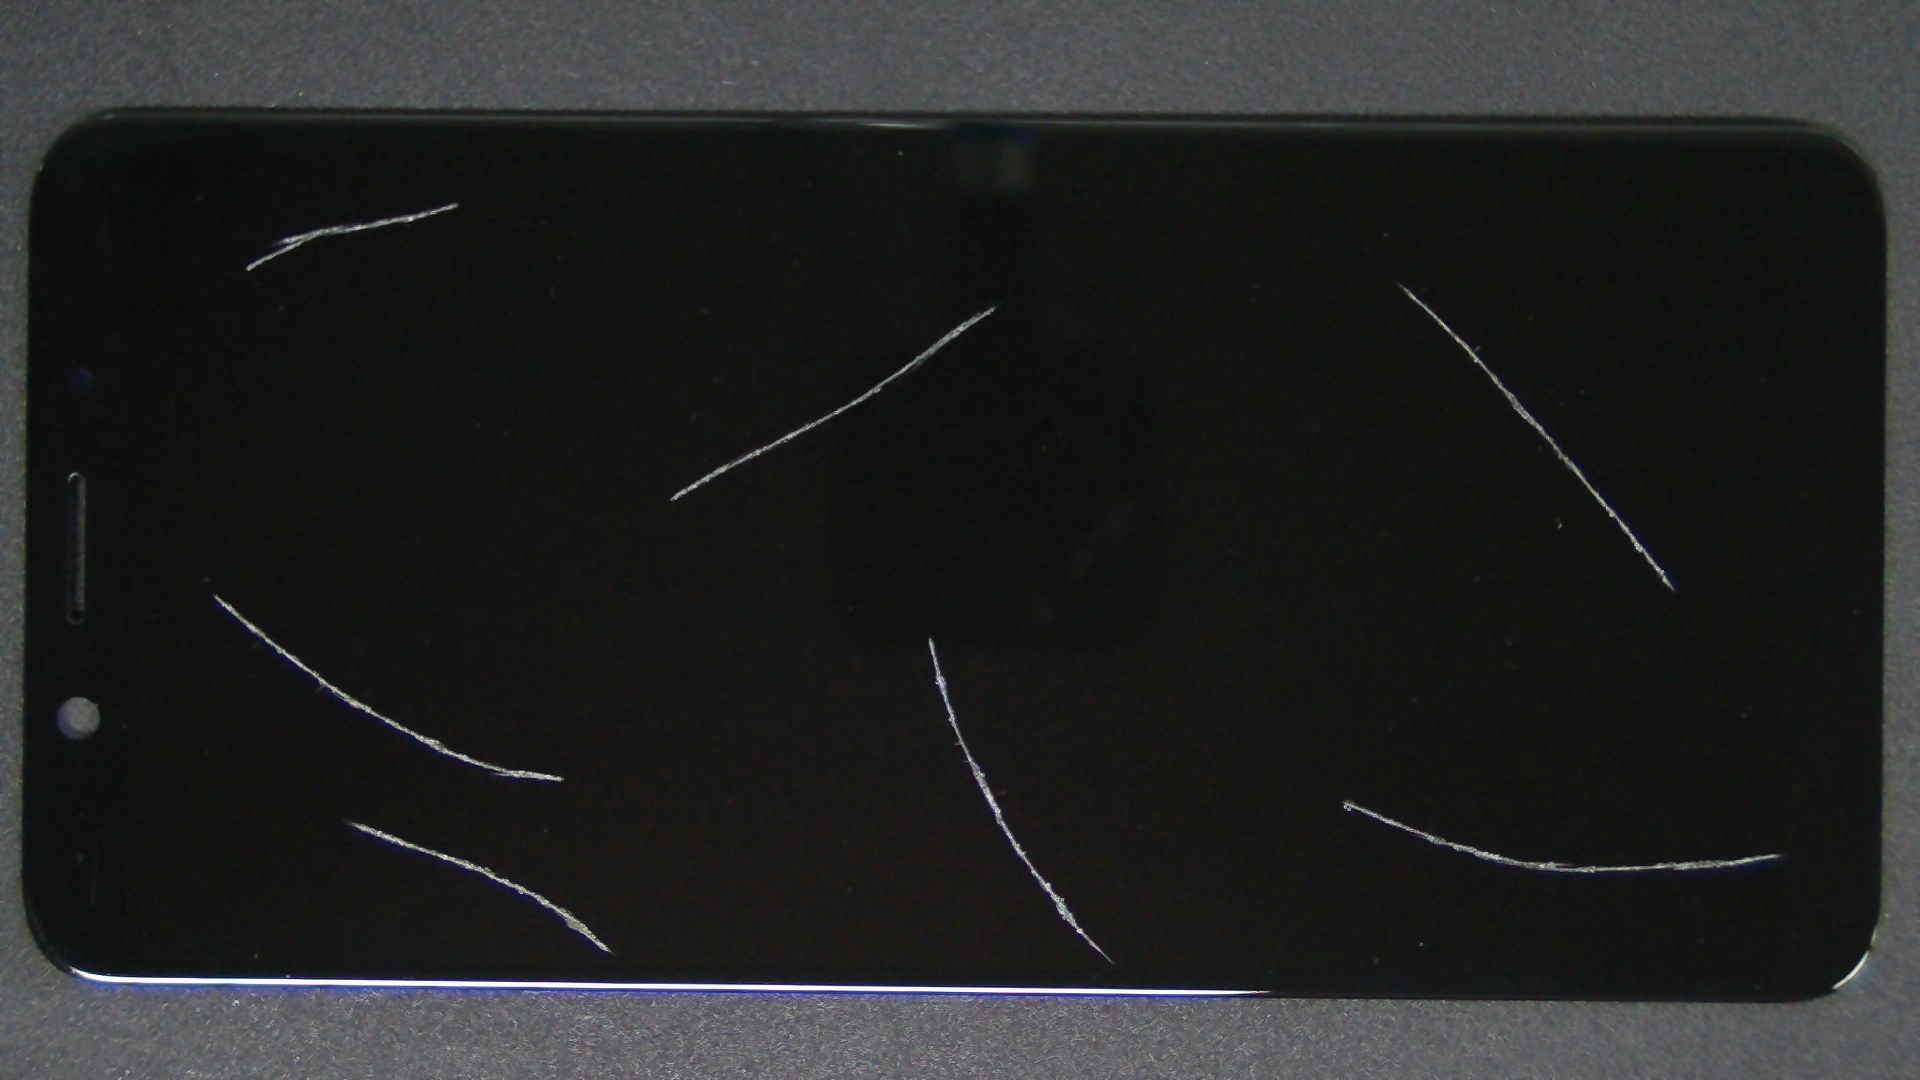oil: (674, 398, 1920, 1080), (463, 318, 1390, 955), (699, 141, 1920, 425), (497, 153, 1490, 459), (174, 409, 521, 1080), (105, 295, 316, 889), (228, 100, 680, 303)
